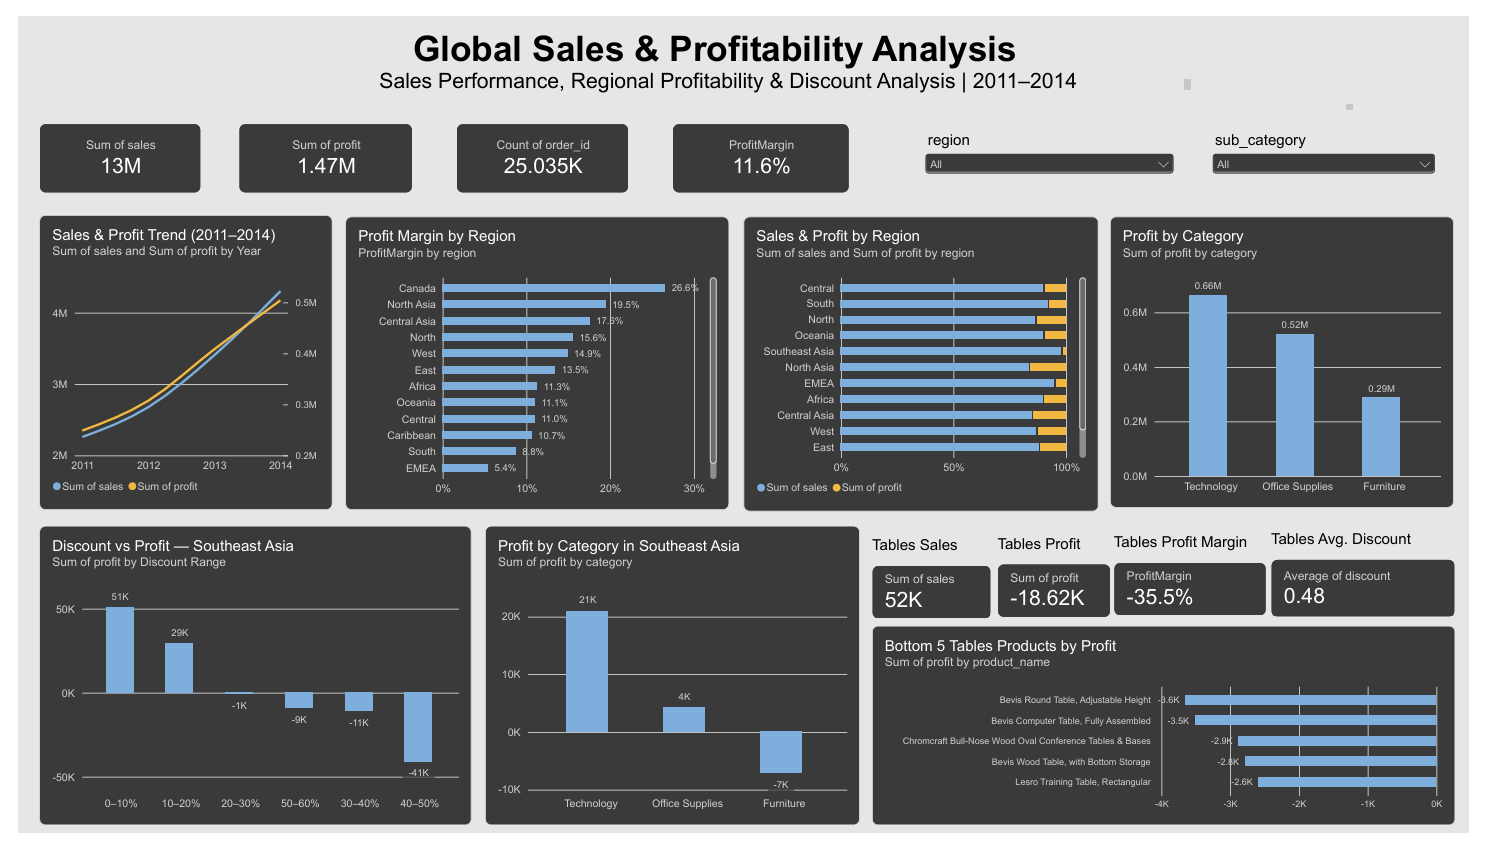

Layout of this report page (visuals, bound fields, positions):
{"tool":"powerbi","page":{"name":"Page 1","canvas":[1920,1080],"ordinal":0},"visuals":[{"type":"cardVisual","fields":{"Data":["Sum(dataset store.sales)"]},"box":[28,142,214,92],"z":0},{"type":"lineChart","title":"Sales & Profit Trend (2011–2014)","fields":{"Category":["dataset store.year.Variation.Date Hierarchy.Year","dataset store.year.Variation.Date Hierarchy.Quarter","dataset store.year.Variation.Date Hierarchy.Month","dataset store.year.Variation.Date Hierarchy.Day"],"Y":["Sum(dataset store.sales)"],"Y2":["Sum(dataset store.profit)"]},"box":[27.5,262.5,388,390],"z":1000},{"type":"cardVisual","fields":{"Data":["Sum(dataset store.profit)"]},"box":[292,142,230,92],"z":2000},{"type":"cardVisual","fields":{"Data":["dataset store.ProfitMargin"]},"box":[866,142,234,92],"z":3000},{"type":"cardVisual","fields":{"Data":["Count(dataset store.order_id)"]},"box":[580,142,228,92],"z":4000},{"type":"clusteredBarChart","title":"Profit Margin by Region","fields":{"Category":["dataset store (2).region"],"Y":["dataset store.ProfitMargin"]},"box":[432.5,265,508,388],"z":5000},{"type":"hundredPercentStackedBarChart","title":"Sales & Profit by Region","fields":{"Category":["dataset store (2).region"],"Y":["Sum(dataset store (2).sales)","Sum(dataset store (2).profit)"]},"box":[960,265,470,390],"z":6000},{"type":"clusteredColumnChart","title":"Profit by Category","fields":{"Category":["dataset store (2).category"],"Y":["Sum(dataset store (2).profit)"]},"box":[1445,265,455,385],"z":7000},{"type":"lineStackedColumnComboChart","title":"Discount vs Profit — Southeast Asia","fields":{"Category":["dataset store (2).Discount Range"],"Y":["Sum(dataset store (2).profit)"]},"box":[28,674,572,396],"z":8000},{"type":"cardVisual","title":"Tables Sales","fields":{"Data":["Sum(dataset store (2).sales)"]},"box":[1130,688,158.3,110],"z":9000},{"type":"lineClusteredColumnComboChart","title":"Profit by Category in Southeast Asia","fields":{"Category":["dataset store (2).category"],"Y":["Sum(dataset store (2).profit)"]},"box":[618,674,496,396],"z":10000},{"type":"cardVisual","title":"Tables Profit","fields":{"Data":["Sum(dataset store (2).profit)"]},"box":[1296,686,150,110],"z":11000},{"type":"cardVisual","title":"Tables Profit Margin","fields":{"Data":["dataset store.ProfitMargin"]},"box":[1450,684,202,110],"z":12000},{"type":"cardVisual","title":"Tables Avg. Discount","fields":{"Data":["Avg(dataset store (2).discount)"]},"box":[1658,680,244,116],"z":13000},{"type":"clusteredBarChart","title":"Bottom 5 Tables Products by Profit","fields":{"Category":["dataset store (2).product_name"],"Y":["Sum(dataset store (2).profit)"]},"box":[1130,806,772,264],"z":14000},{"type":"slicer","title":"Slicer by Region or Category","fields":{"Values":["dataset store (2).region"]},"box":[1196,152,338,196],"z":15000},{"type":"textbox","title":"Global Sales & Profitability Analysis","box":[522,16,1030,82],"z":16000},{"type":"textbox","title":"Sales Performance, Regional Profitability & Discount Analysis | 2011–2014","box":[478,70,1288,54],"z":17000},{"type":"slicer","fields":{"Values":["dataset store (2).sub_category"]},"box":[1576,152,304,76],"z":18000}]}

Visuals, with their boxes in screenshot pixels (x1, y1, x2, y2), scaled from the page's 1920x1080 canvas onto the 1485x847 screenshot:
cardVisual - Sum(dataset store.sales): detection(22, 111, 187, 184)
"Sales & Profit Trend (2011–2014)" lineChart: detection(21, 206, 321, 512)
cardVisual - Sum(dataset store.profit): detection(226, 111, 404, 184)
cardVisual - dataset store.ProfitMargin: detection(670, 111, 851, 184)
cardVisual - Count(dataset store.order_id): detection(449, 111, 625, 184)
"Profit Margin by Region" clusteredBarChart: detection(335, 208, 727, 512)
"Sales & Profit by Region" hundredPercentStackedBarChart: detection(742, 208, 1106, 514)
"Profit by Category" clusteredColumnChart: detection(1118, 208, 1470, 510)
"Discount vs Profit — Southeast Asia" lineStackedColumnComboChart: detection(22, 529, 464, 839)
"Tables Sales" cardVisual: detection(874, 540, 996, 626)
"Profit by Category in Southeast Asia" lineClusteredColumnComboChart: detection(478, 529, 862, 839)
"Tables Profit" cardVisual: detection(1002, 538, 1118, 624)
"Tables Profit Margin" cardVisual: detection(1121, 536, 1278, 623)
"Tables Avg. Discount" cardVisual: detection(1282, 533, 1471, 624)
"Bottom 5 Tables Products by Profit" clusteredBarChart: detection(874, 632, 1471, 839)
"Slicer by Region or Category" slicer: detection(925, 119, 1186, 273)
"Global Sales & Profitability Analysis" textbox: detection(404, 13, 1200, 77)
"Sales Performance, Regional Profitability & Discount Analysis | 2011–2014" textbox: detection(370, 55, 1366, 97)
slicer - dataset store (2).sub_category: detection(1219, 119, 1454, 179)
